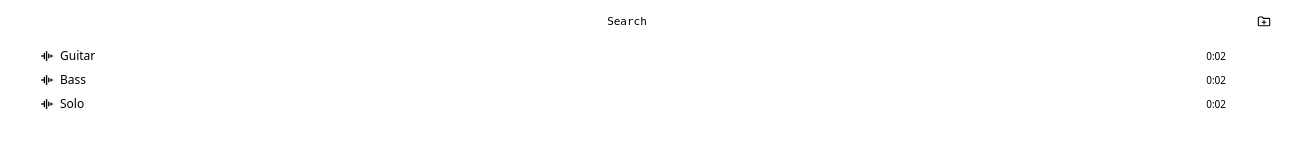
Test case: previewing a take › does the same on the Clips page
The width and height of the screenshot is (1304, 160).
Later steps or results of the test are not shown.
Press the mouse on the list item "Guitar 0:02": (78, 56) x1=12 y1=44 x2=1292 y2=68
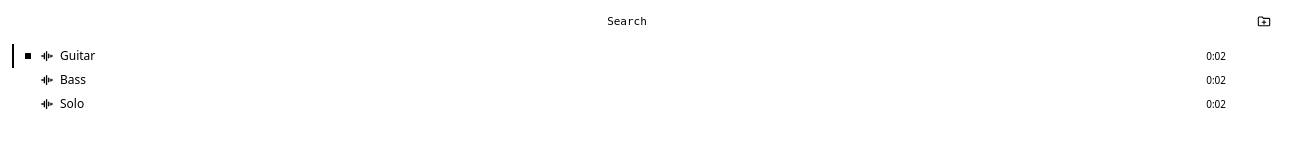
Expected: the number of buttons named "Stop preview" is 1, x1=22 y1=50 x2=34 y2=62
